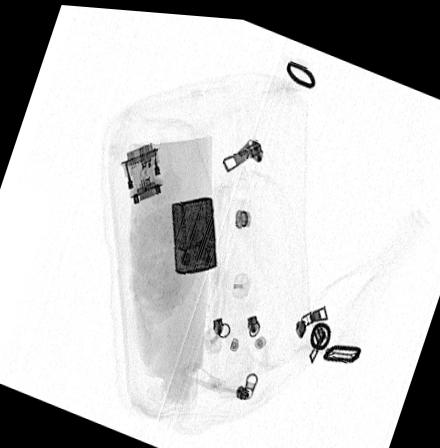Lighter: (169, 193, 217, 273)
